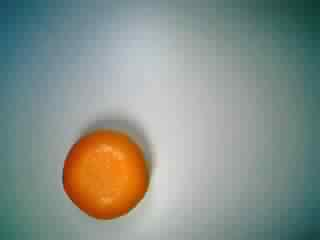orange: (58, 126, 149, 219)
